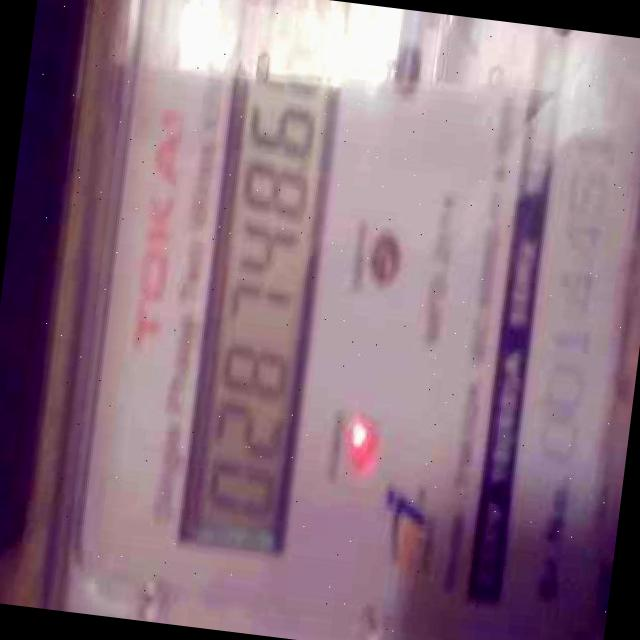LCD: (165, 6, 352, 558)
